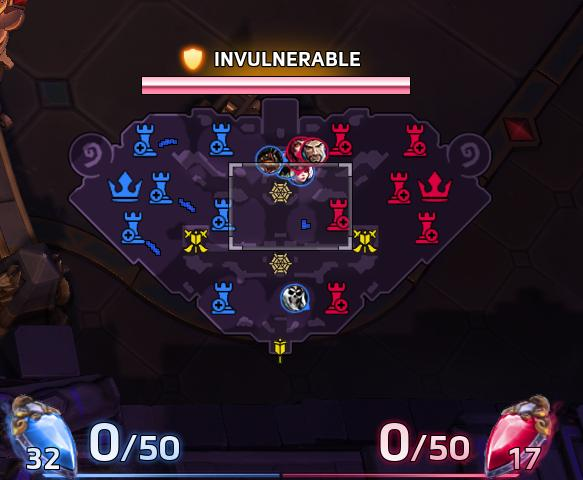blue nexus: (107, 169, 143, 202)
blue player: (280, 161, 314, 187), (280, 283, 309, 313), (255, 145, 284, 174)
blue tower: (131, 122, 157, 158), (208, 121, 234, 156), (210, 280, 236, 314), (119, 210, 145, 244), (210, 196, 235, 231), (148, 170, 173, 204)
red nexus: (416, 170, 452, 202)
red player: (284, 136, 311, 165), (299, 138, 327, 164)
red tower: (402, 122, 427, 157), (414, 210, 439, 244), (324, 280, 349, 314), (325, 197, 349, 231), (386, 170, 410, 204), (330, 122, 352, 156)
